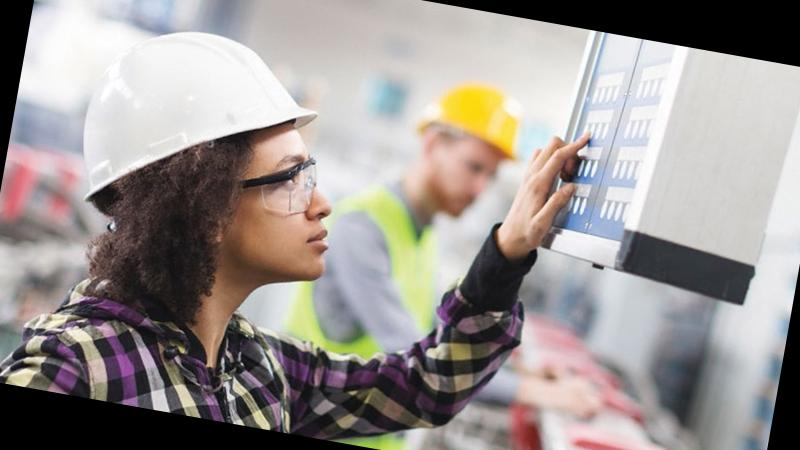helmet: (69, 14, 329, 241), (410, 71, 534, 165)
no_wear: (0, 284, 315, 435)
wear: (297, 188, 454, 377)
